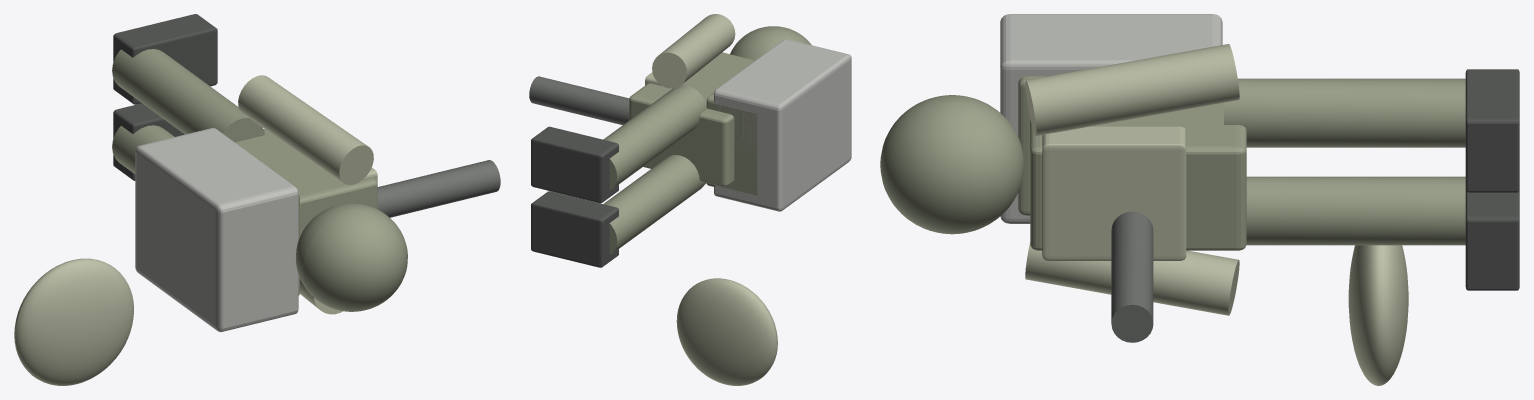
Rendered from v-u06-vanguard-combat-medic-lod1.glb.
3 renders of one model, left to right at view 1: azimuth 30°, elevation 25°; view 2: azimuth 150°, elevation 25°; view 3: azimuth 270°, elevation 25°, orthographic. The views are drawn at different scales.
Parts seen in each view (by area): view 1: medical_pack, medic_drone, soldier_0_helmet, soldier_0_leg_1, soldier_0_arm_1, soldier_0_torso, soldier_0_boot_1, soldier_0_rifle, soldier_0_boot_-1, soldier_0_leg_-1; view 2: medical_pack, medic_drone, soldier_0_torso, soldier_0_boot_-1, soldier_0_boot_1, soldier_0_leg_1, soldier_0_leg_-1, soldier_0_arm_1, soldier_0_rifle, soldier_0_backpack, soldier_0_helmet; view 3: soldier_0_chest, soldier_0_leg_1, soldier_0_helmet, soldier_0_leg_-1, medical_pack, soldier_0_arm_1, soldier_0_torso, medic_drone, soldier_0_arm_-1, soldier_0_boot_1, soldier_0_boot_-1, soldier_0_rifle (+1 smaller).
Part boxes in pixels (x1=…): medical_pack: x1=135, y1=128, x2=298, y2=331; medic_drone: x1=14, y1=258, x2=133, y2=385; soldier_0_helmet: x1=295, y1=203, x2=407, y2=311; soldier_0_leg_1: x1=112, y1=49, x2=264, y2=142; soldier_0_arm_1: x1=238, y1=75, x2=373, y2=185; soldier_0_torso: x1=235, y1=129, x2=377, y2=236; soldier_0_boot_1: x1=113, y1=14, x2=217, y2=104; soldier_0_rifle: x1=377, y1=160, x2=500, y2=217; soldier_0_boot_-1: x1=113, y1=103, x2=184, y2=180; soldier_0_leg_-1: x1=112, y1=125, x2=174, y2=173; medical_pack: x1=714, y1=39, x2=851, y2=211; medic_drone: x1=676, y1=278, x2=777, y2=385; soldier_0_torso: x1=629, y1=52, x2=754, y2=186; soldier_0_boot_-1: x1=531, y1=191, x2=618, y2=267; soldier_0_boot_1: x1=531, y1=126, x2=618, y2=203; soldier_0_leg_1: x1=603, y1=85, x2=706, y2=190; soldier_0_leg_-1: x1=603, y1=155, x2=705, y2=254; soldier_0_arm_1: x1=652, y1=14, x2=735, y2=88; soldier_0_rifle: x1=529, y1=76, x2=629, y2=125; soldier_0_backpack: x1=706, y1=93, x2=757, y2=195; soldier_0_helmet: x1=730, y1=26, x2=811, y2=60; soldier_0_chest: x1=1042, y1=126, x2=1186, y2=260; soldier_0_leg_1: x1=1224, y1=78, x2=1465, y2=147; soldier_0_helmet: x1=880, y1=95, x2=1024, y2=234; soldier_0_leg_-1: x1=1246, y1=176, x2=1465, y2=245; medical_pack: x1=1000, y1=14, x2=1222, y2=223; soldier_0_arm_1: x1=1025, y1=44, x2=1239, y2=135; soldier_0_torso: x1=1030, y1=102, x2=1246, y2=250; medic_drone: x1=1348, y1=245, x2=1408, y2=385; soldier_0_arm_-1: x1=1025, y1=242, x2=1239, y2=315; soldier_0_boot_1: x1=1465, y1=69, x2=1519, y2=192; soldier_0_boot_-1: x1=1465, y1=189, x2=1519, y2=290; soldier_0_rifle: x1=1111, y1=211, x2=1153, y2=342.
Size of what is drawn, in the model's own units: 1.88 by 1.51 by 2.13.
